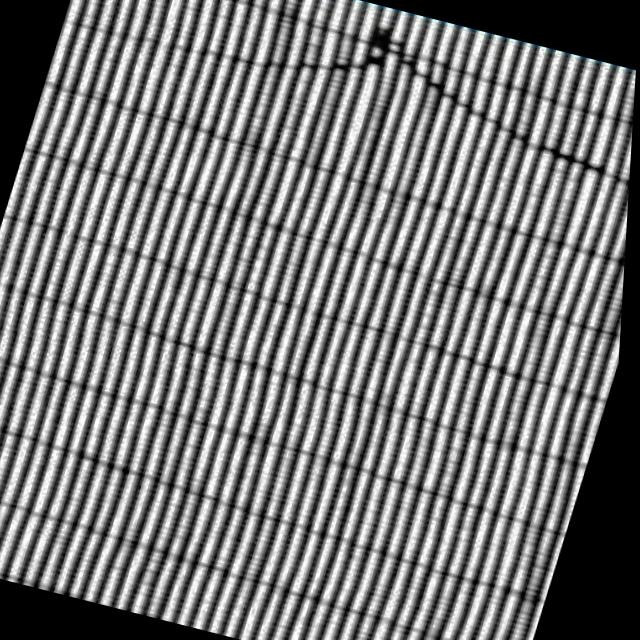Stitch: (204, 0, 578, 198)
